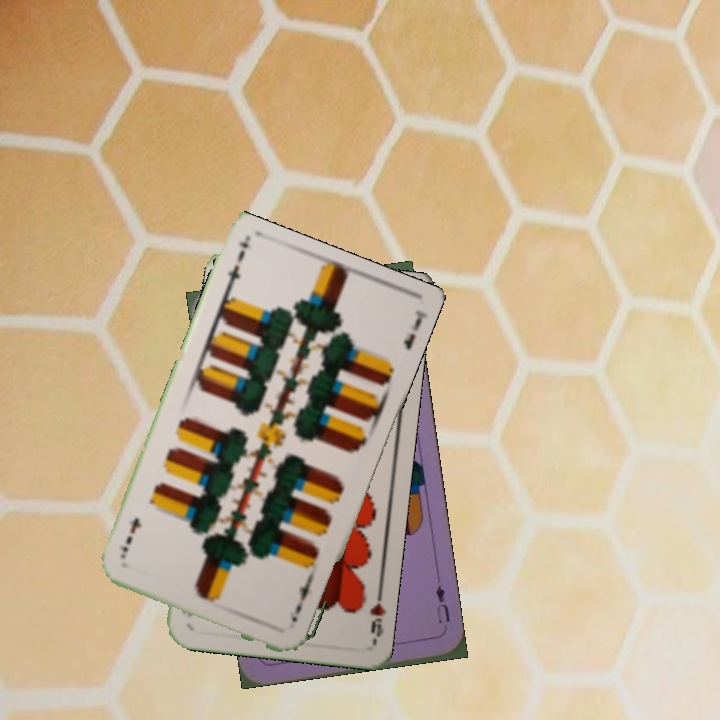E7: (287, 575, 315, 625), (221, 246, 248, 296)
EU: (431, 581, 453, 626)
H9: (366, 585, 388, 644)
